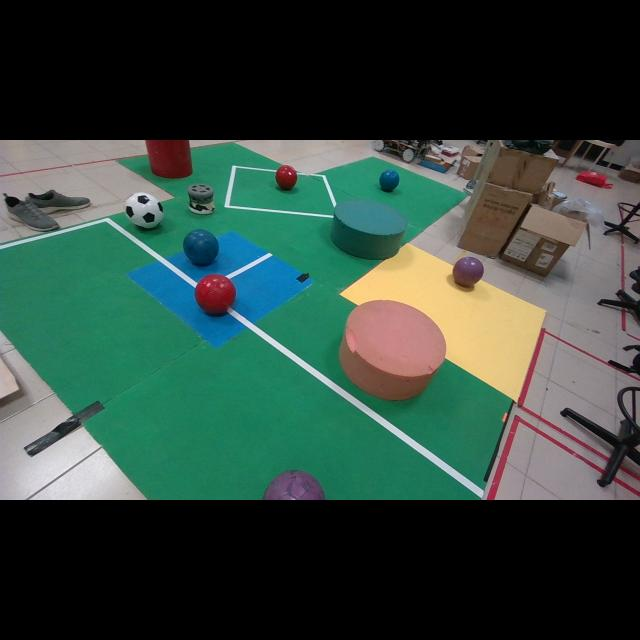B: (182, 229, 219, 266), (379, 169, 400, 192)
P: (262, 470, 325, 500), (452, 256, 484, 288)
R: (195, 274, 236, 315), (275, 165, 298, 190)
